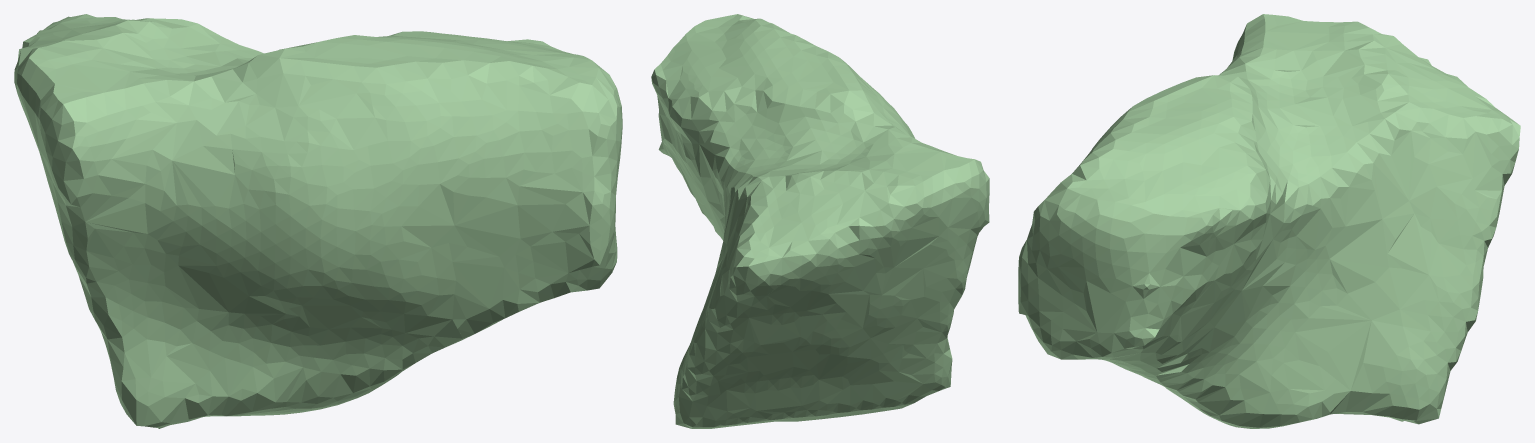
The model's file is Model_140_RH__Temporoparietal_transitional_area_(TPt).obj.
The picture shows the model from 3 angles, left to right: view 1: azimuth 30°, elevation 25°; view 2: azimuth 150°, elevation 25°; view 3: azimuth 270°, elevation 25°; orthographic projection. The views are drawn at different scales.
Bounding box in the file's own units: 2.62 × 1.92 × 2.74.
